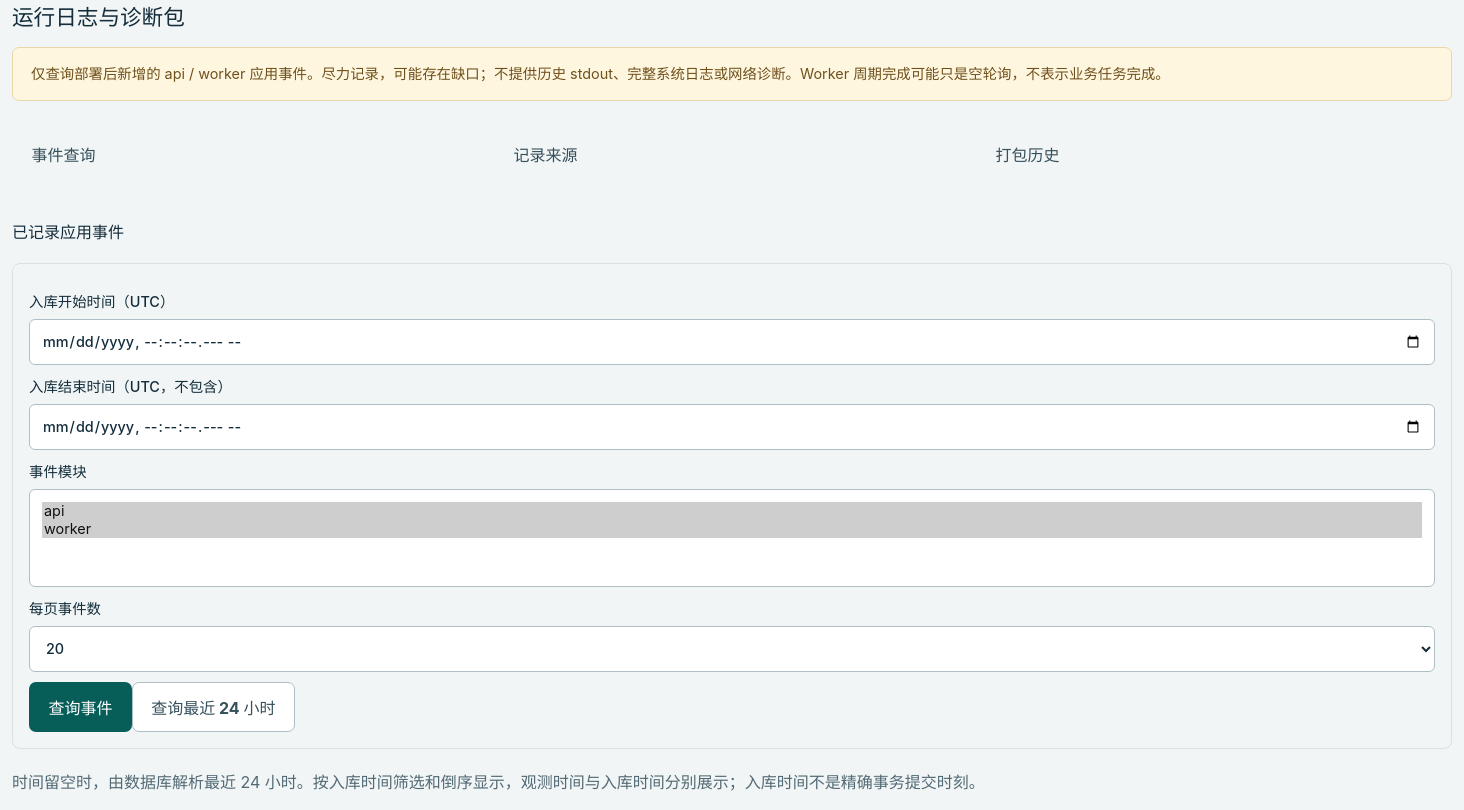
Scenario: operational journal UI and interruption safety › shows source counters only as incomplete possibly stale observations
The width and height of the screenshot is (1464, 810).
Click the button "记录来源" at [545, 155], box x1=494 y1=129 x2=970 y2=179
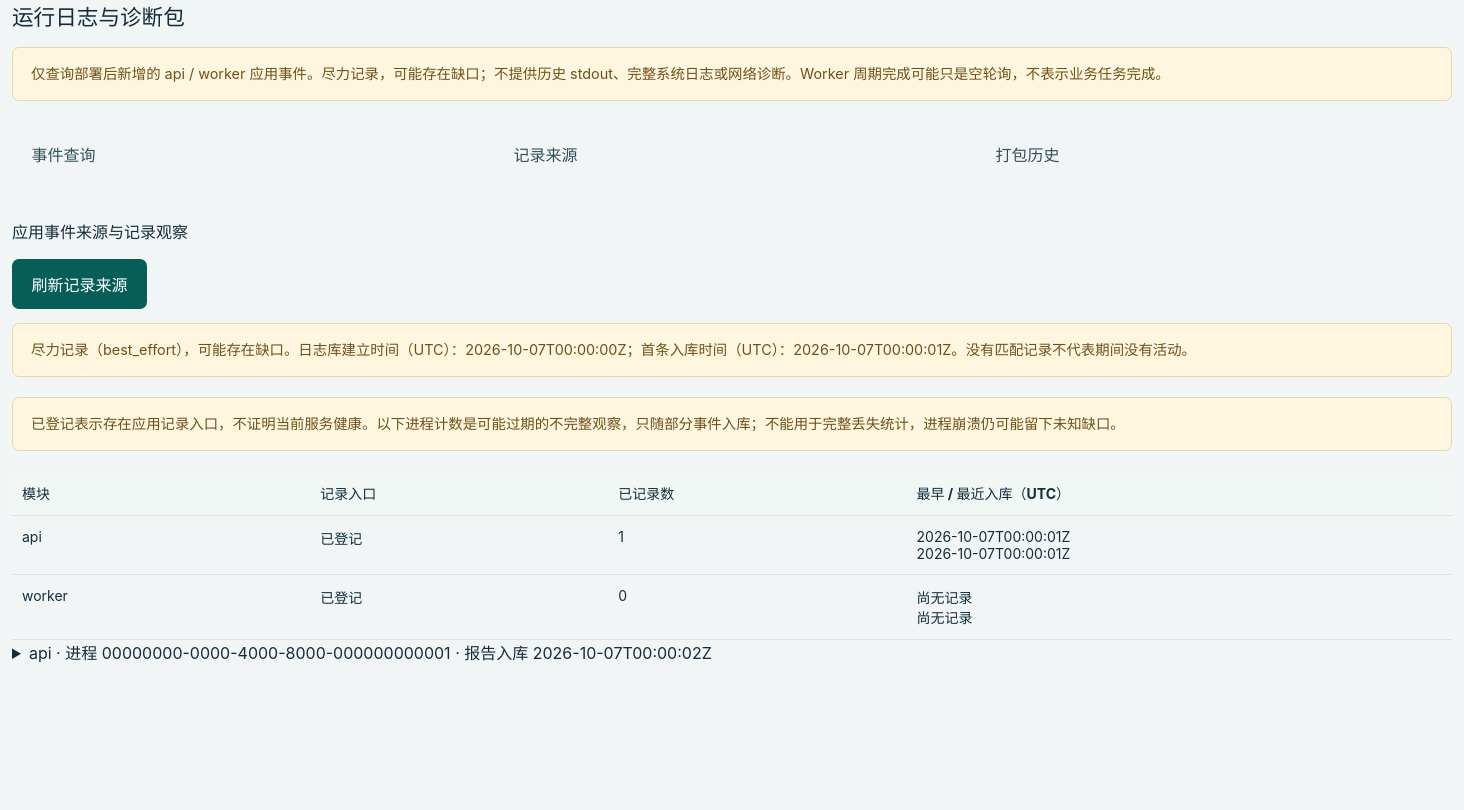
Now the table named "日志模块来源" is shown, box x1=12 y1=471 x2=1452 y2=640
Now the text "进程崩溃仍可能留下未知缺口" is shown, box x1=31 y1=415 x2=1125 y2=432
